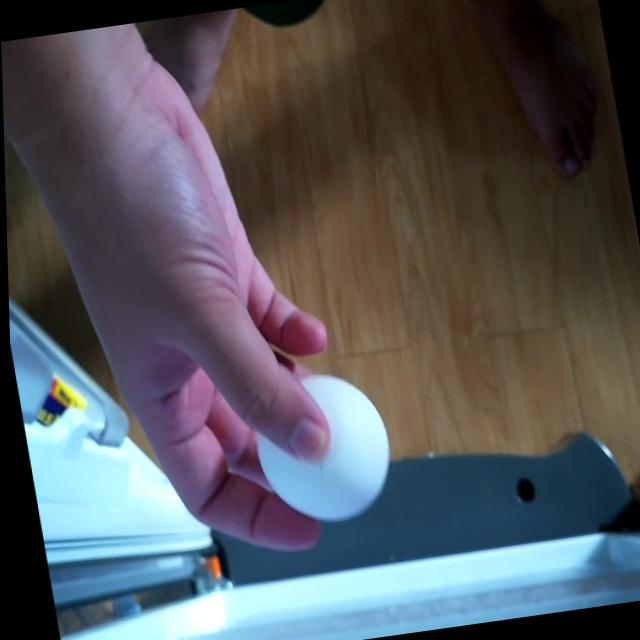egg: (234, 362, 397, 533)
